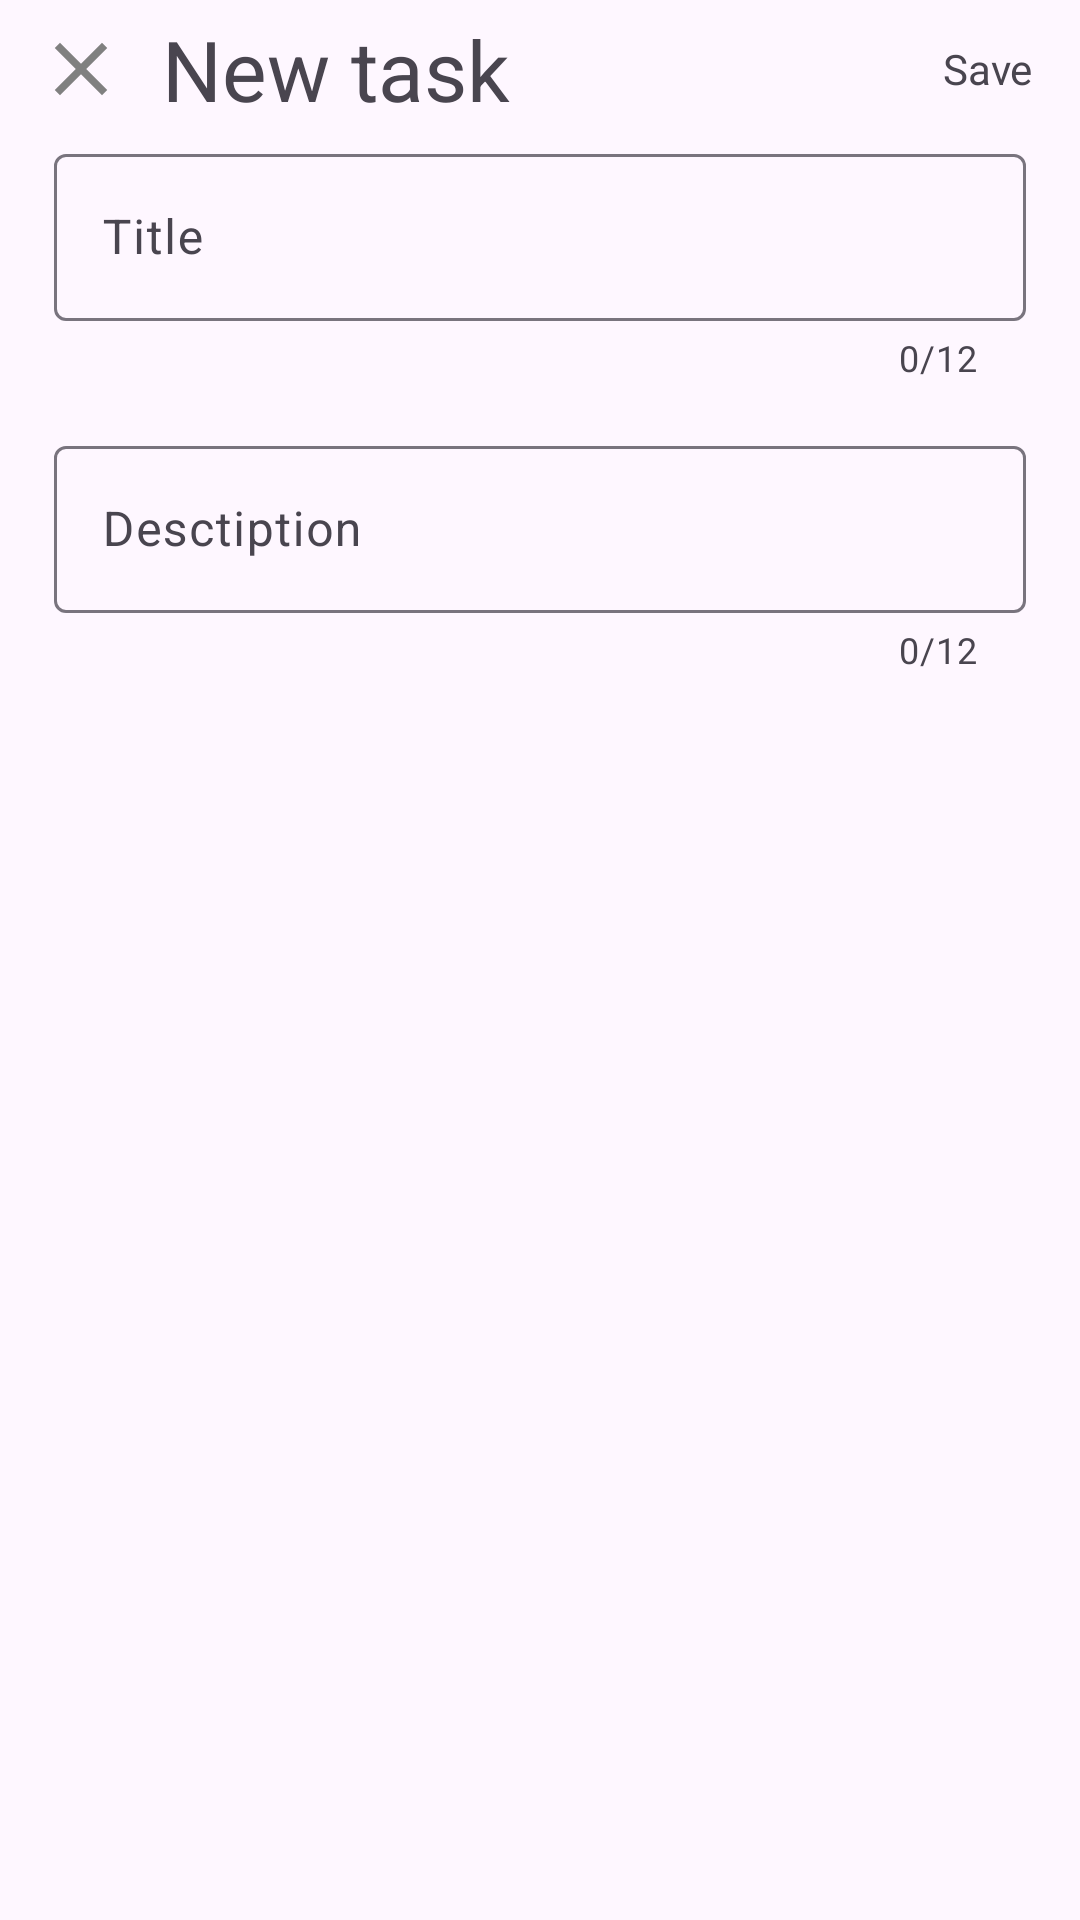

Screen size 1080×1920. Icon name, then its box in pixels as (x1, y1, x2, y2):
close: (55, 43, 107, 95)
